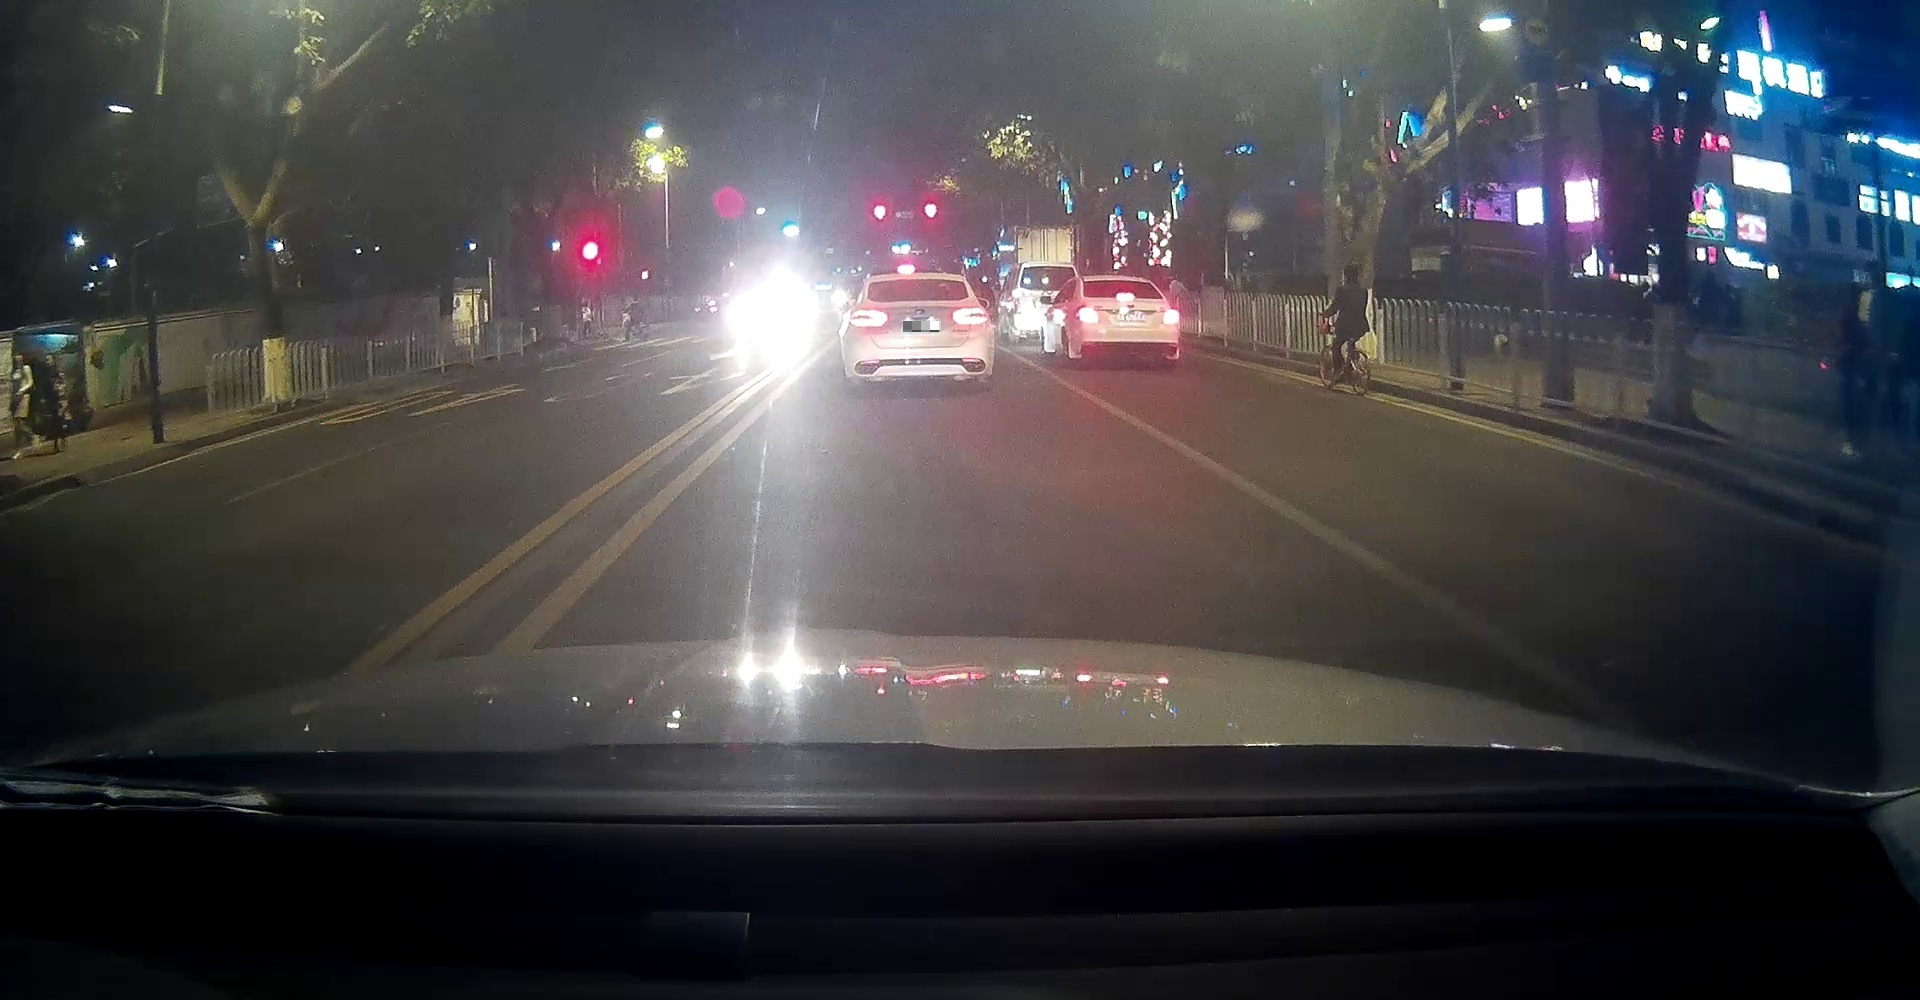L_light: (850, 308, 888, 327), (1077, 306, 1098, 324)
R_light: (952, 306, 990, 325), (1162, 308, 1180, 324)
T_light: (904, 279, 928, 286), (1116, 292, 1135, 299)
night-brake: (1076, 275, 1180, 368)
night-no: (846, 272, 990, 390)
plate_1: (903, 321, 941, 332)
